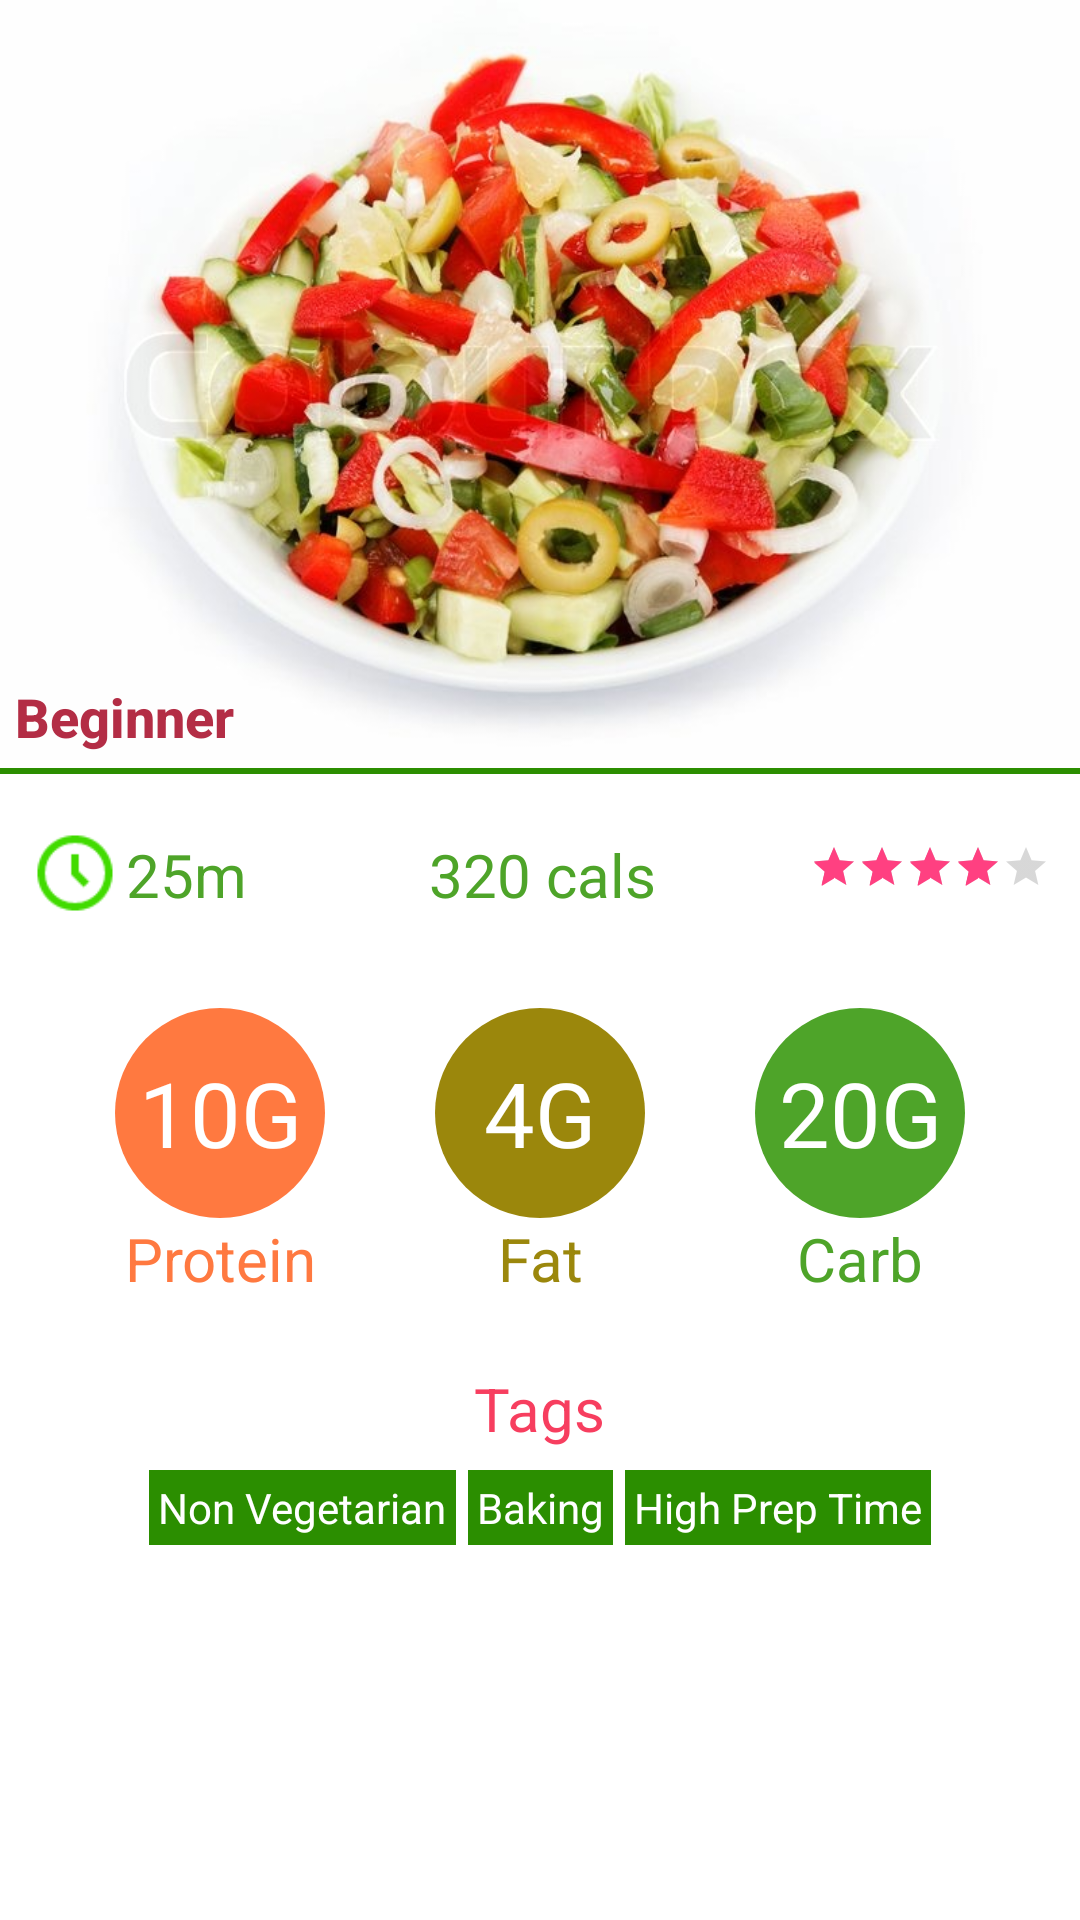

Icons on this 1080 × 1920 Android screen, each with the point to tap as [x,y]:
clock: [75,873]
